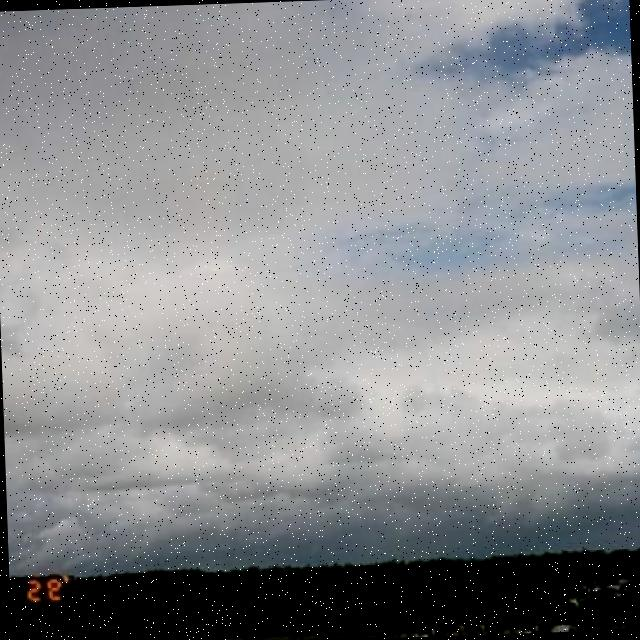Sc: (1, 1, 640, 487)
